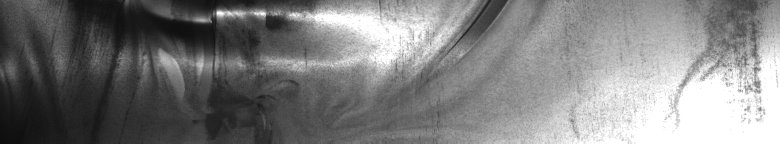ke: (109, 4, 332, 125)
